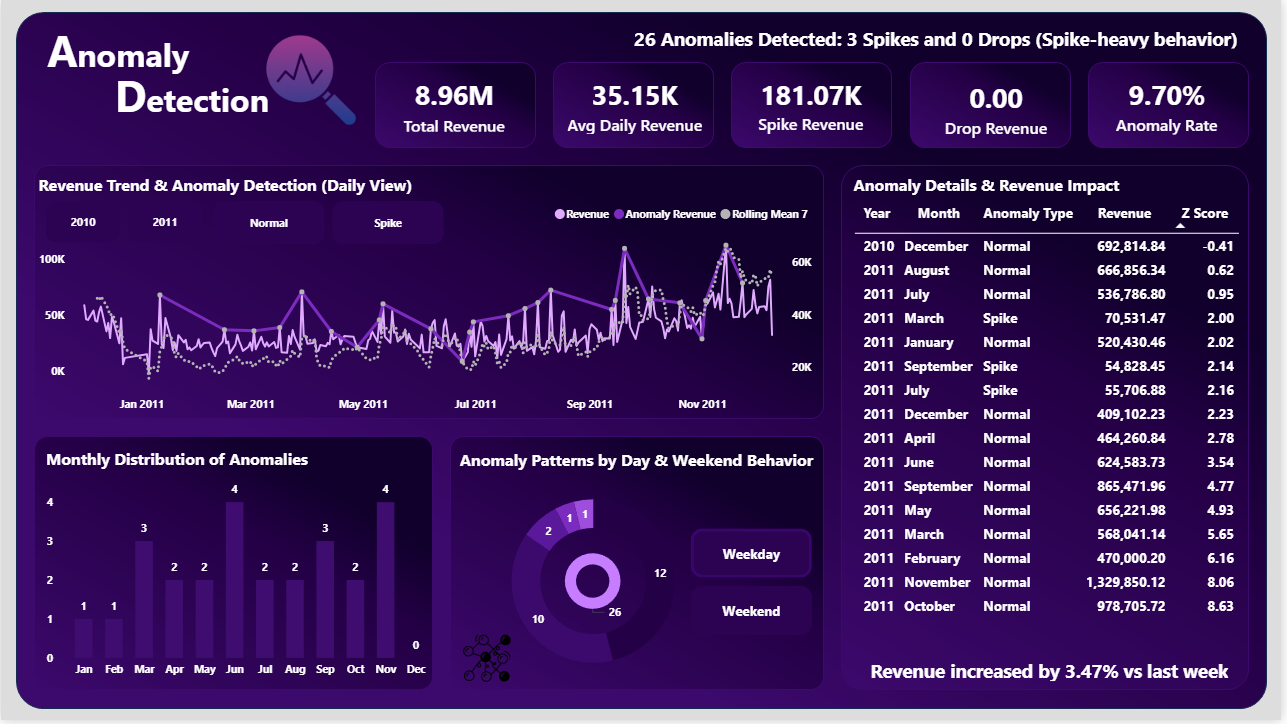

The dashboard page shown, as its layout file describes it:
{"tool":"powerbi","page":{"name":"Time-Series Analysis","canvas":[1280,720],"ordinal":0},"visuals":[{"type":"image","box":[448.8,633.8,73.8,48.8],"z":0},{"type":"lineChart","title":"Revenue Trend & Anomaly Detection (Daily View)","fields":{"Y":["Sum(daily_anomaly_data.Revenue)","daily_anomaly_data.Anomaly Revenue"],"Category":["Date_Dim.Date.Variation.Date Hierarchy.Year","Date_Dim.Date.Variation.Date Hierarchy.Month","Date_Dim.Date.Variation.Date Hierarchy.Day"],"Y2":["Sum(daily_anomaly_data.Rolling_Mean_7)"]},"box":[32.5,173.8,783.8,247.5],"z":1000},{"type":"advancedSlicerVisual","fields":{"Values":["Date_Dim.Year"]},"box":[40,196.2,167.5,51.2],"z":2000},{"type":"donutChart","fields":{"Y":["_Measueres.Total Anomalies"],"Category":["Date_Dim.Day Name"]},"box":[432.5,463.8,320,235],"z":3000},{"type":"cardVisual","fields":{"Data":["_Measueres.Total Revenue"]},"box":[371.4,64.3,164.3,85.7],"z":4000},{"type":"advancedSlicerVisual","fields":{"Values":["Date_Dim.Weekend_Label"]},"box":[685,523.8,131.2,117.5],"z":5000},{"type":"cardVisual","fields":{"Data":["_Measueres.Anomaly Insight"]},"box":[602.9,8.6,665.7,57.1],"z":6000},{"type":"advancedSlicerVisual","fields":{"Values":["daily_anomaly_data.Anomaly_Type"]},"box":[207.5,196.2,241.2,53.8],"z":7000},{"type":"cardVisual","fields":{"Data":["_Measueres.Avg Daily Revenue"]},"box":[535.7,60,195.7,91.4],"z":8000},{"type":"cardVisual","fields":{"Data":["daily_anomaly_data.Spike Revenue"]},"box":[725.7,57.1,167.1,95.7],"z":9000},{"type":"tableEx","title":"Anomaly Details & Revenue Impact ","fields":{"Values":["Date_Dim.Date.Variation.Date Hierarchy.Year","Date_Dim.Date.Variation.Date Hierarchy.Month","daily_anomaly_data.Anomaly_Type","Sum(daily_anomaly_data.Revenue)","Sum(daily_anomaly_data.Z_Score)"]},"box":[847.1,174.3,401.4,508.6],"z":10000},{"type":"columnChart","title":"Monthly Distribution of Anomalies","fields":{"Y":["_Measueres.Total Anomalies"],"Category":["Date_Dim.Month"]},"box":[40,447.1,401.4,238.6],"z":11000},{"type":"cardVisual","fields":{"Data":["_Measueres.Anomaly Rate"]},"box":[1084.3,55.7,164.3,98.6],"z":12000},{"type":"cardVisual","fields":{"Data":["daily_anomaly_data.Drop Revenue"]},"box":[912.9,61.4,165.7,94.3],"z":13000},{"type":"donutChart","fields":{"Category":["Date_Dim.Weekend_Label"],"Y":["_Measueres.Total Anomalies"]},"box":[538.8,536.2,106.2,90],"z":14000},{"type":"cardVisual","fields":{"Data":["_Measueres.Revenue WoW Insight"]},"box":[840,641.4,417.1,57.1],"z":15000},{"type":"textbox","box":[454.3,444.3,378.6,38.6],"z":16000},{"type":"textbox","box":[41.2,16.2,172.5,67.5],"z":17000},{"type":"textbox","box":[108.8,61.2,180,71.2],"z":18000},{"type":"image","box":[255,30,108.8,100],"z":19000}]}

Visuals, with their boxes in screenshot pixels (x1, y1, x2, y2), scaled from the page's 1280x720 canvas onto the 1287x724 screenshot:
image: [451, 637, 525, 686]
"Revenue Trend & Anomaly Detection (Daily View)" lineChart: [33, 175, 821, 424]
advancedSlicerVisual - Date_Dim.Year: [40, 197, 209, 249]
donutChart - _Measueres.Total Anomalies x Date_Dim.Day Name: [435, 466, 757, 703]
cardVisual - _Measueres.Total Revenue: [373, 65, 539, 151]
advancedSlicerVisual - Date_Dim.Weekend_Label: [689, 527, 821, 645]
cardVisual - _Measueres.Anomaly Insight: [606, 9, 1276, 66]
advancedSlicerVisual - daily_anomaly_data.Anomaly_Type: [209, 197, 451, 251]
cardVisual - _Measueres.Avg Daily Revenue: [539, 60, 735, 152]
cardVisual - daily_anomaly_data.Spike Revenue: [730, 57, 898, 154]
"Anomaly Details & Revenue Impact " tableEx: [852, 175, 1255, 687]
"Monthly Distribution of Anomalies" columnChart: [40, 450, 444, 690]
cardVisual - _Measueres.Anomaly Rate: [1090, 56, 1255, 155]
cardVisual - daily_anomaly_data.Drop Revenue: [918, 62, 1084, 157]
donutChart - Date_Dim.Weekend_Label x _Measueres.Total Anomalies: [542, 539, 649, 630]
cardVisual - _Measueres.Revenue WoW Insight: [845, 645, 1264, 702]
textbox: [457, 447, 837, 486]
textbox: [41, 16, 215, 84]
textbox: [109, 62, 290, 133]
image: [256, 30, 366, 131]
